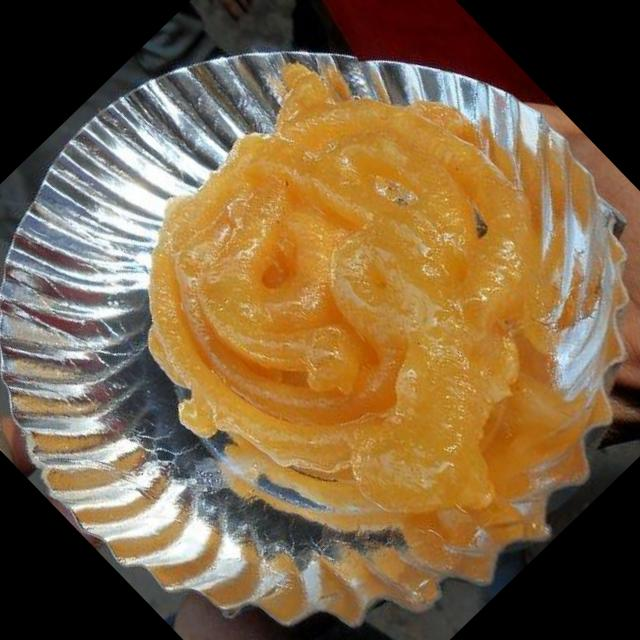jalebi: (95, 23, 640, 586)
